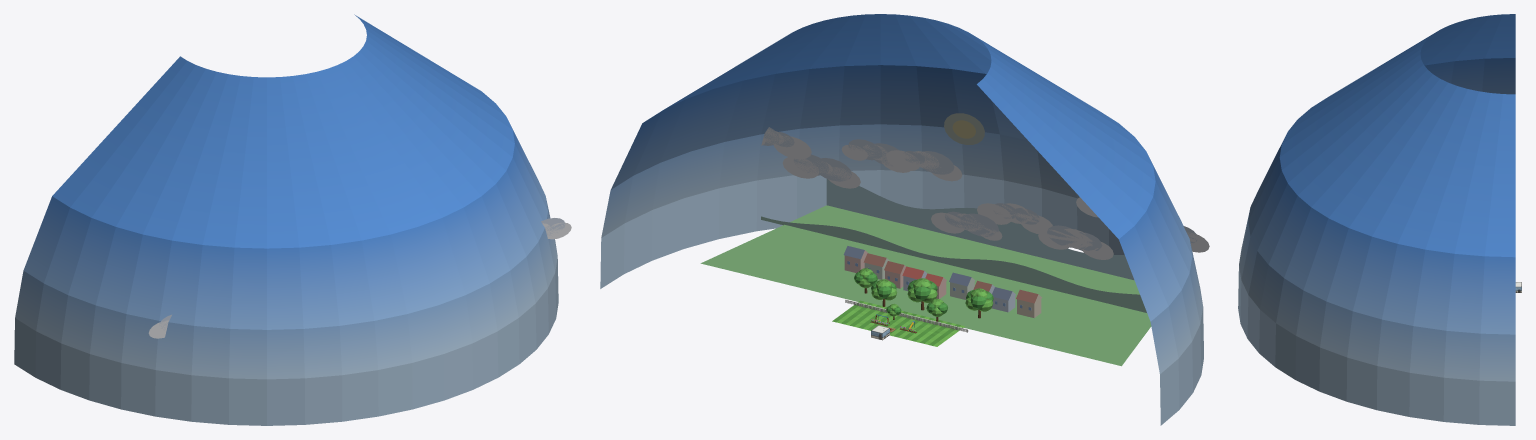
Rendered from TableMannersCraftRoom.fbx.
3 views of the same model, side by side, from view 1: azimuth 30°, elevation 25°; view 2: azimuth 150°, elevation 25°; view 3: azimuth 270°, elevation 25° (orthographic). The views are drawn at different scales.
Visible parts, largest first — view 1: Sky; view 2: Sky, Garden Far, Garden; view 3: Sky.
Boxes of the visible parts, left/top/right/bottom form: Sky: left=14, top=14, right=571, bottom=425; Sky: left=600, top=14, right=1209, bottom=425; Garden Far: left=700, top=179, right=1151, bottom=366; Garden: left=832, top=268, right=993, bottom=346; Sky: left=1238, top=14, right=1515, bottom=425.
Size of the model in its own units: 6384 by 3230 by 3264.
